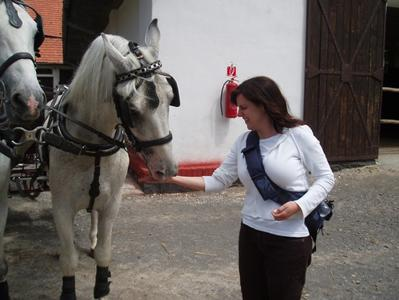person: (141, 77, 334, 300)
